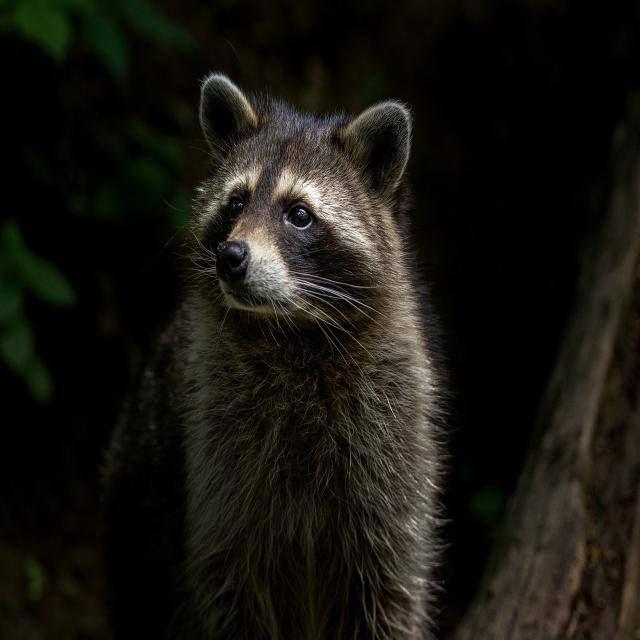raccoon: (104, 73, 445, 640)
